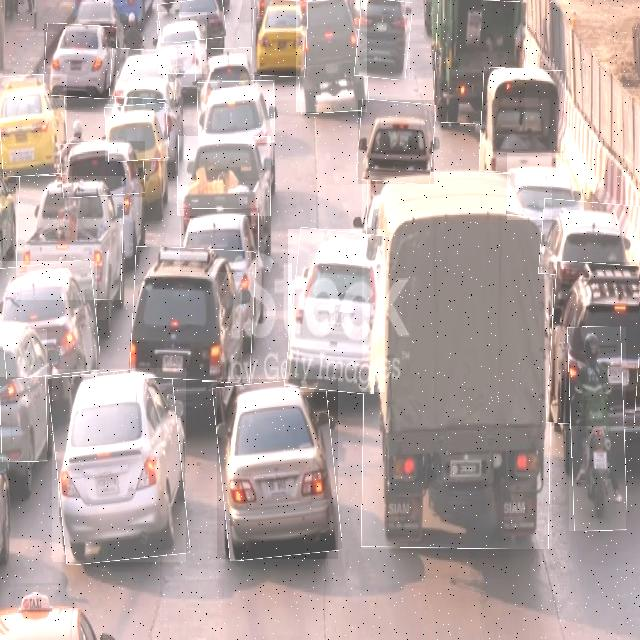Car: (52, 369, 186, 562), (217, 379, 338, 559), (132, 248, 254, 382), (288, 229, 385, 392), (549, 262, 640, 426), (0, 261, 97, 377), (539, 200, 640, 279), (0, 74, 67, 175), (358, 100, 434, 184), (0, 329, 47, 462), (44, 24, 116, 98), (507, 153, 584, 220), (180, 208, 259, 273), (198, 80, 275, 143), (61, 141, 145, 197), (251, 0, 307, 76), (356, 0, 410, 78), (105, 104, 168, 161), (110, 49, 177, 99), (158, 12, 207, 74), (158, 0, 225, 41), (196, 48, 254, 85)
Motorcycle: (569, 327, 626, 531)
Truck: (362, 172, 552, 549), (16, 176, 123, 300), (433, 0, 525, 125), (481, 68, 565, 174), (296, 0, 367, 112), (178, 136, 271, 216)
